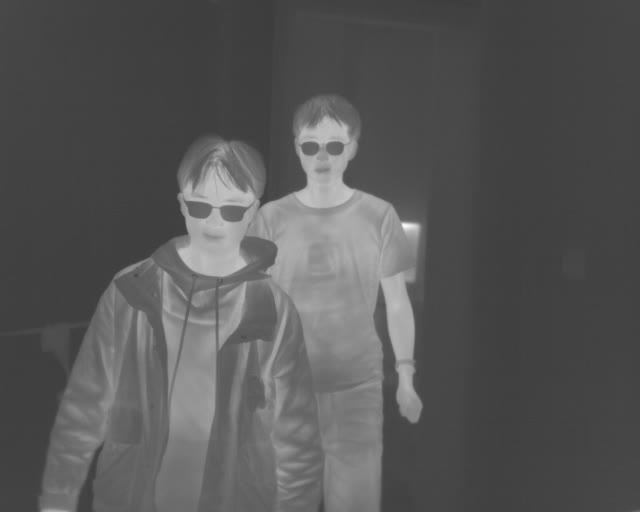face: (177, 133, 268, 255), (291, 93, 361, 187)
